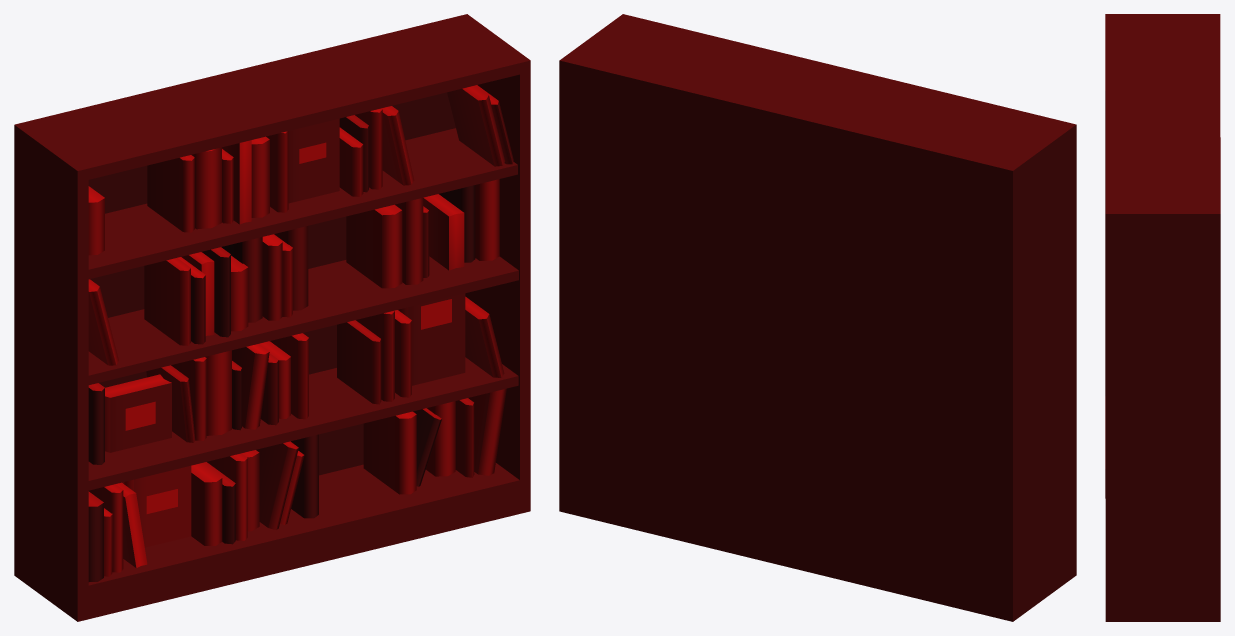
File: BookShelf003.glb
The picture shows the model from 3 angles, left to right: view 1: azimuth 30°, elevation 25°; view 2: azimuth 150°, elevation 25°; view 3: azimuth 270°, elevation 25°; orthographic projection. The views are drawn at different scales.
Parts seen in each view (by area): view 1: BookShelf003; view 2: BookShelf003; view 3: BookShelf003.
Part boxes in pixels (x1,y1,x2,y2): BookShelf003: (14,14,530,621); BookShelf003: (559,14,1076,621); BookShelf003: (1105,14,1220,621).
Size of the model in its own units: 8.91 by 8.47 by 2.17.
